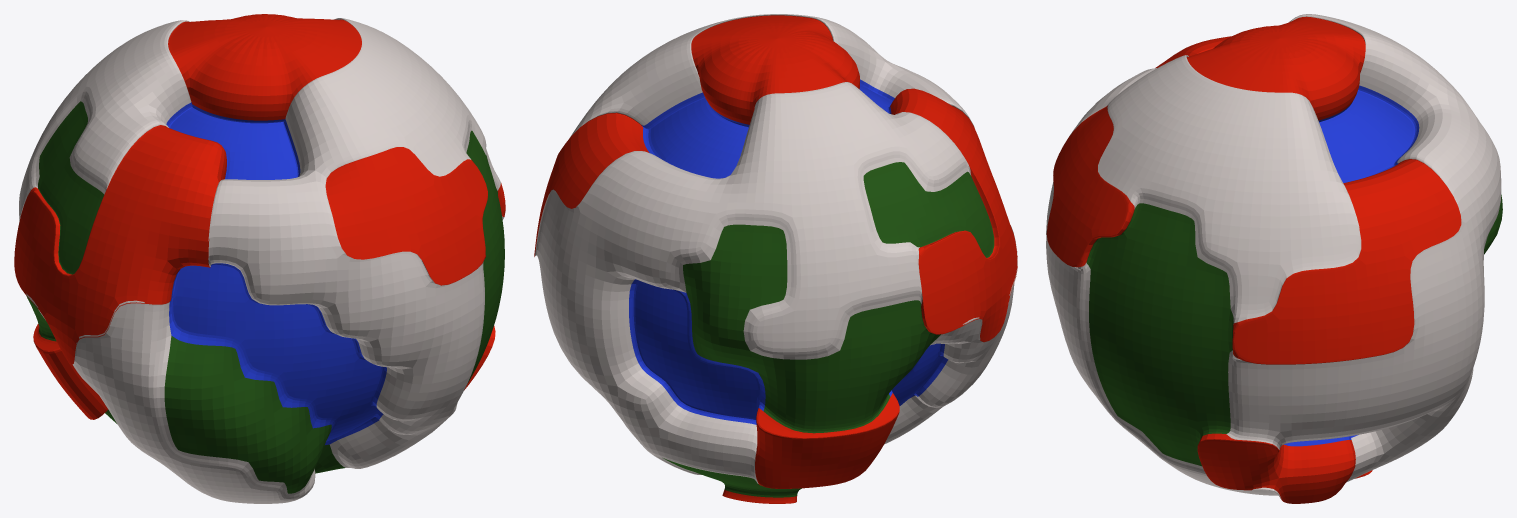
The model's file is planeta5.fbx.
The picture shows the model from 3 angles, left to right: view 1: azimuth 30°, elevation 25°; view 2: azimuth 150°, elevation 25°; view 3: azimuth 270°, elevation 25°; orthographic projection. The views are drawn at different scales.
Visible parts, largest first — view 1: Sphere; view 2: Sphere; view 3: Sphere.
Boxes of the visible parts, left/top/right/bottom form: Sphere: left=14, top=14, right=505, bottom=503; Sphere: left=534, top=14, right=1017, bottom=503; Sphere: left=1046, top=14, right=1502, bottom=503.
Bounding box in the file's own units: 201 × 200 × 188.
